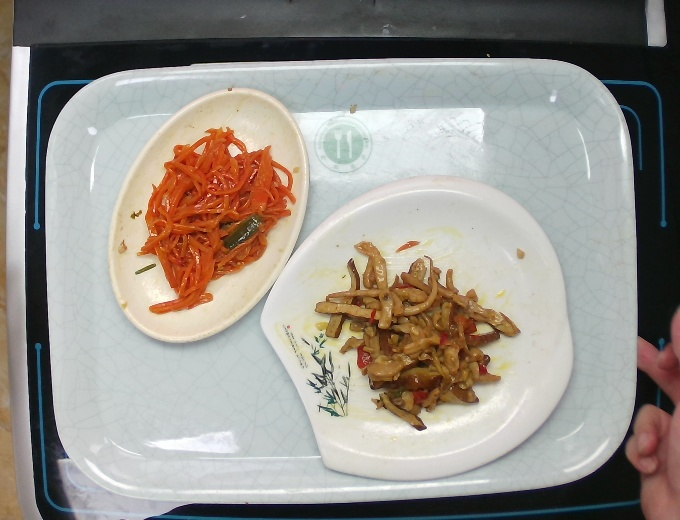JYsf-Mian_Pan: (261, 172, 575, 483)
JYsf-Tuo_Yuan_Wan: (108, 80, 311, 348)
